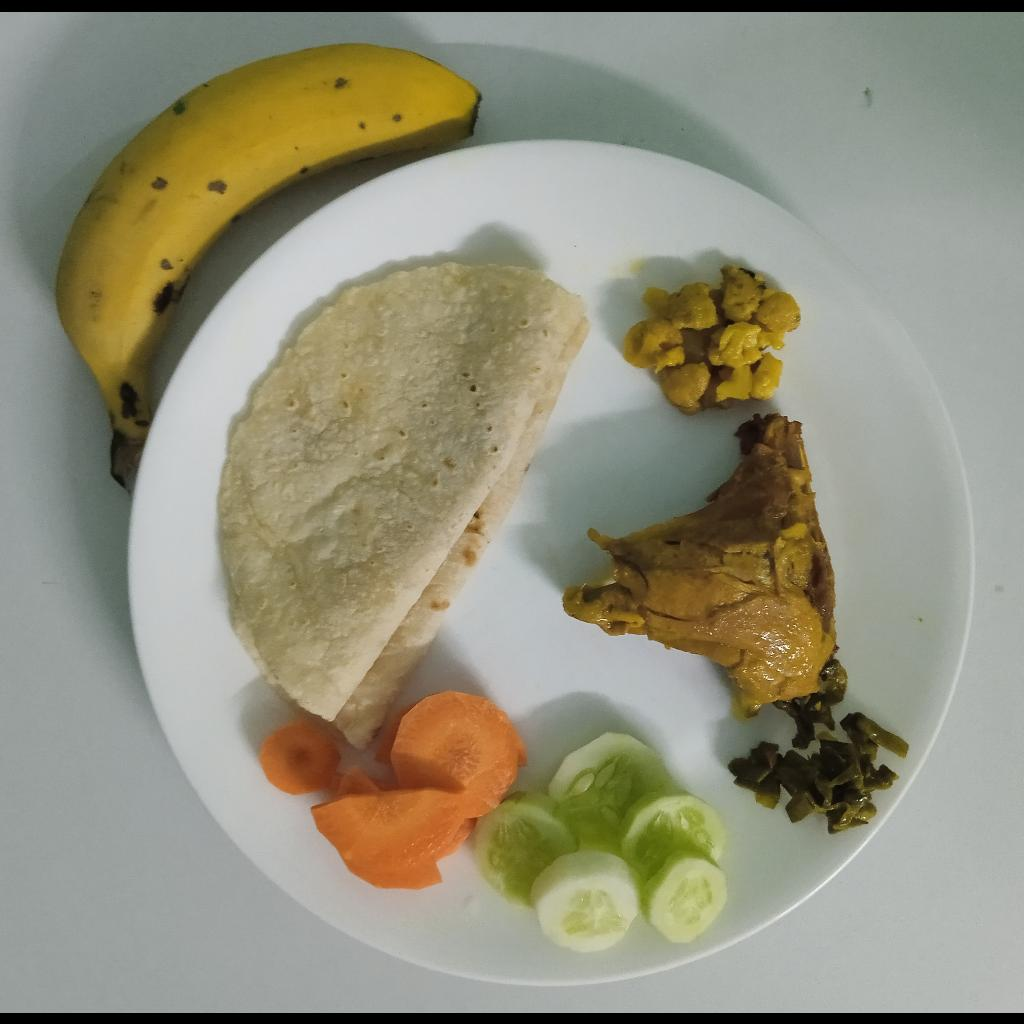banana: (54, 44, 483, 492)
carrot: (261, 689, 530, 888)
cauliflower: (624, 264, 802, 413)
chicken: (561, 413, 835, 715)
cucumber: (471, 732, 729, 952)
ruti: (217, 260, 592, 750)
shak: (729, 654, 909, 834)
